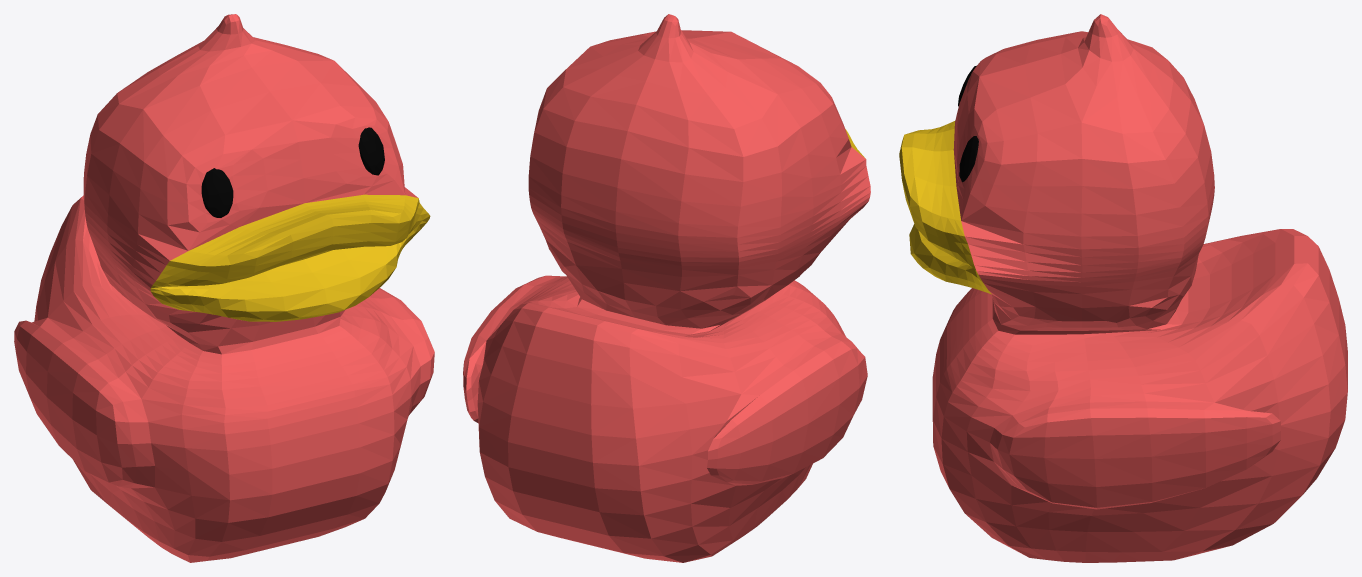
The model's file is Red_Duckie.FBX.
The picture shows the model from 3 angles, left to right: view 1: azimuth 30°, elevation 25°; view 2: azimuth 150°, elevation 25°; view 3: azimuth 270°, elevation 25°; orthographic projection. The views are drawn at different scales.
Visible parts, largest first — view 1: duckie, duckie_mouth, eye_left, eye_right; view 2: duckie; view 3: duckie, duckie_mouth, eye_right.
Boxes of the visible parts, <box> form: duckie: <box>14,14,434,562</box>; duckie_mouth: <box>150,194,430,321</box>; eye_left: <box>201,168,233,217</box>; eye_right: <box>358,127,384,175</box>; duckie: <box>463,14,870,562</box>; duckie: <box>932,14,1347,562</box>; duckie_mouth: <box>899,121,991,294</box>; eye_right: <box>959,136,978,182</box>.
Size of the model in its own units: 3.43 by 5.09 by 4.01.
